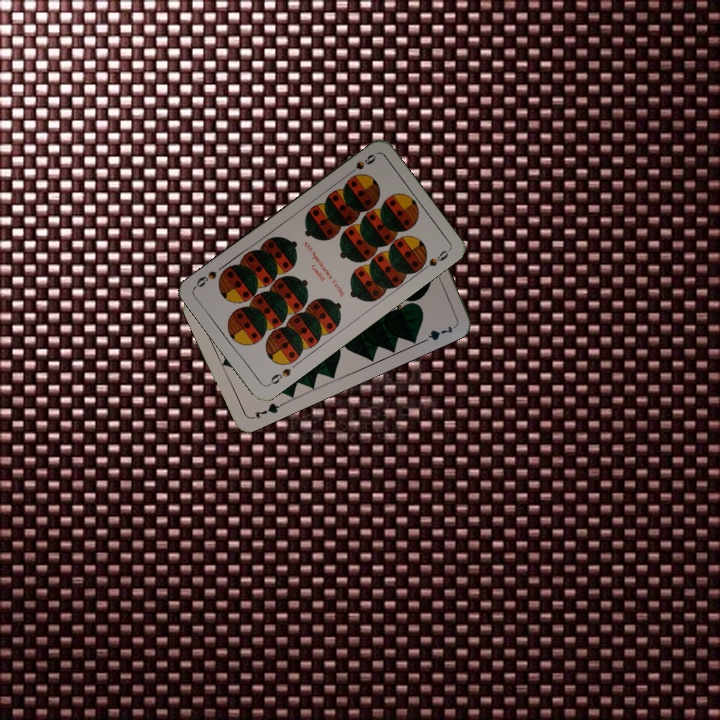G7: (247, 399, 285, 422)
S9: (343, 150, 379, 178), (264, 364, 293, 388)
